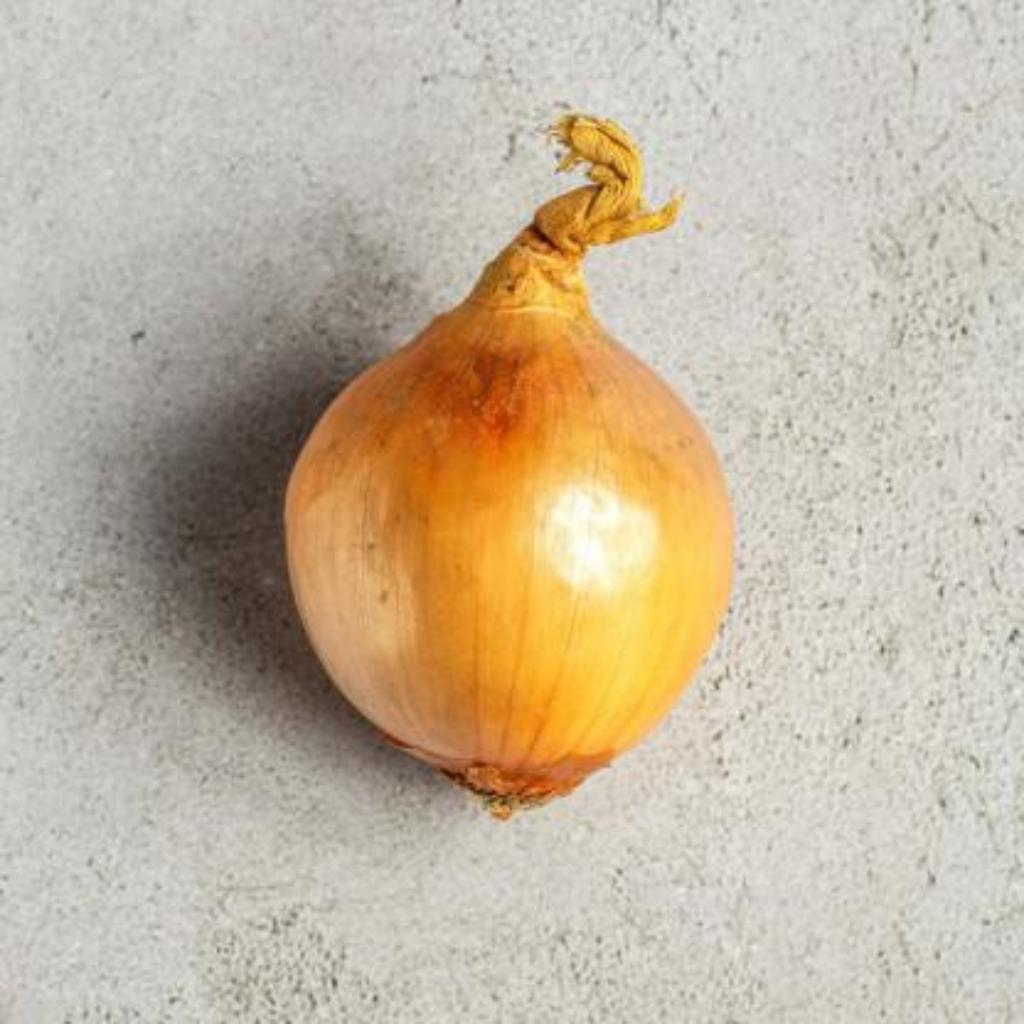Onion: (286, 116, 734, 818)
